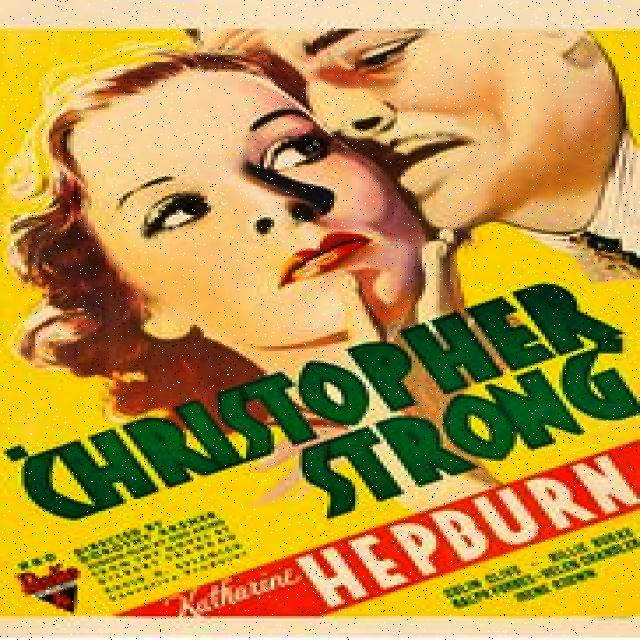movie-judul: (6, 283, 640, 522)
picture: (4, 29, 640, 318)
